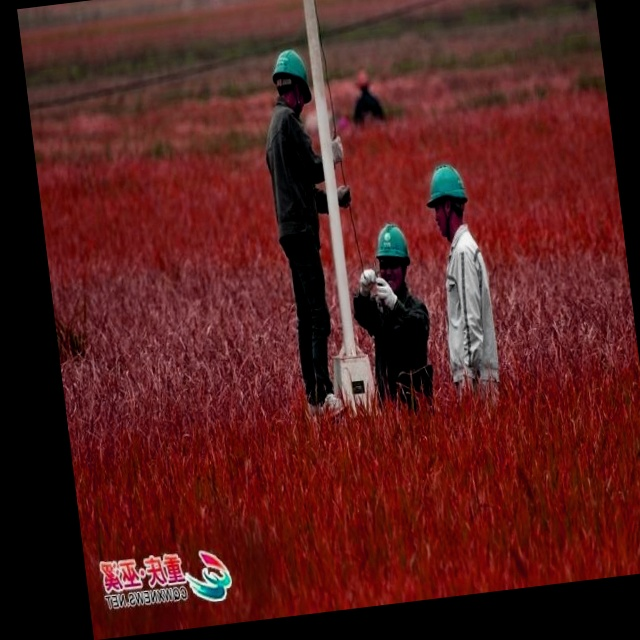Sin_Chaleco: (432, 227, 500, 382), (260, 104, 321, 241)
